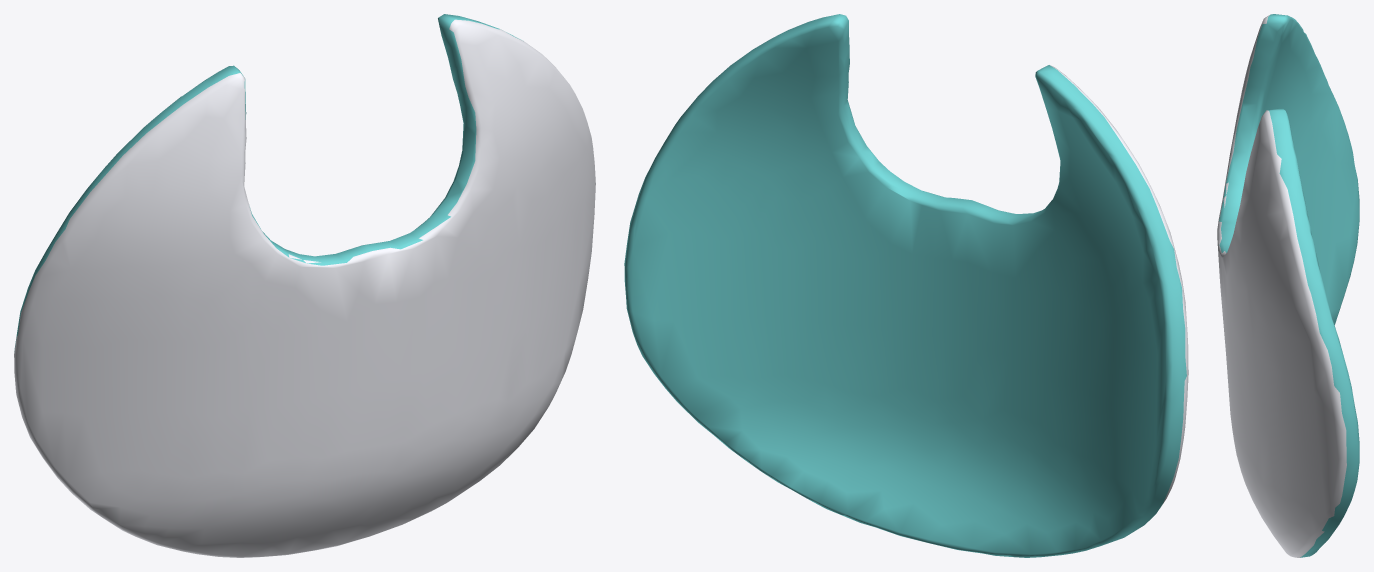
Rendered from plate-notch.glb.
The picture shows the model from 3 angles, left to right: view 1: azimuth 30°, elevation 25°; view 2: azimuth 150°, elevation 25°; view 3: azimuth 270°, elevation 25°; orthographic projection. The views are drawn at different scales.
Visible parts, largest first — view 1: plate-notch; view 2: plate-notch; view 3: plate-notch.
Boxes of the visible parts, x1,y1,x2,y2 form: plate-notch: (14,14,595,557); plate-notch: (624,14,1188,557); plate-notch: (1217,14,1359,557).
Size of the model in its own units: 0.5738 by 0.481 by 0.1367.
